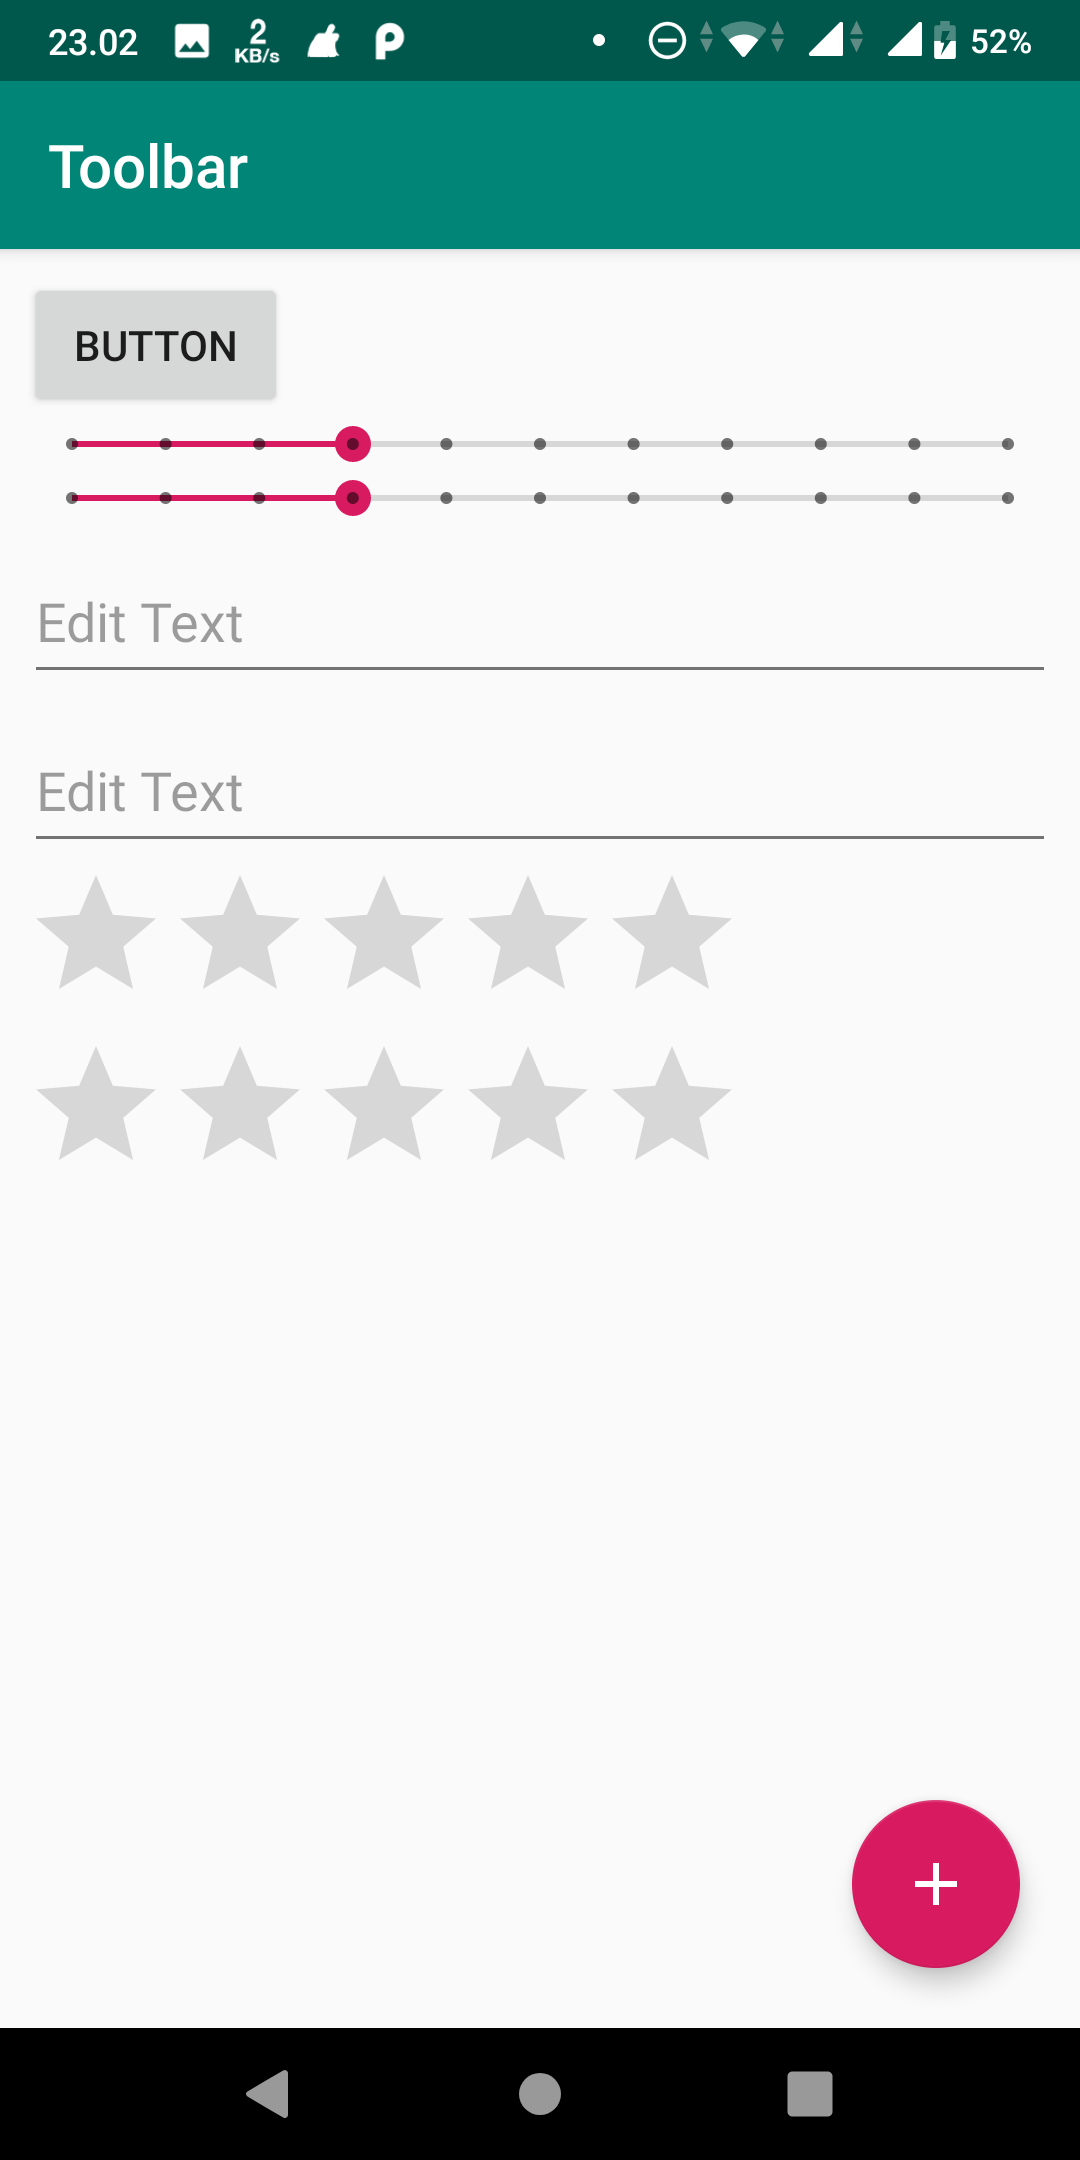button: (22, 277, 291, 412)
editText: (22, 585, 1057, 696), (19, 754, 1057, 861)
floatingButton: (842, 1789, 1025, 1970)
ratingBar: (32, 1030, 744, 1183), (28, 866, 748, 1008)
slider: (61, 479, 1032, 522), (56, 426, 1032, 461)
toolbar: (3, 80, 1079, 249)
